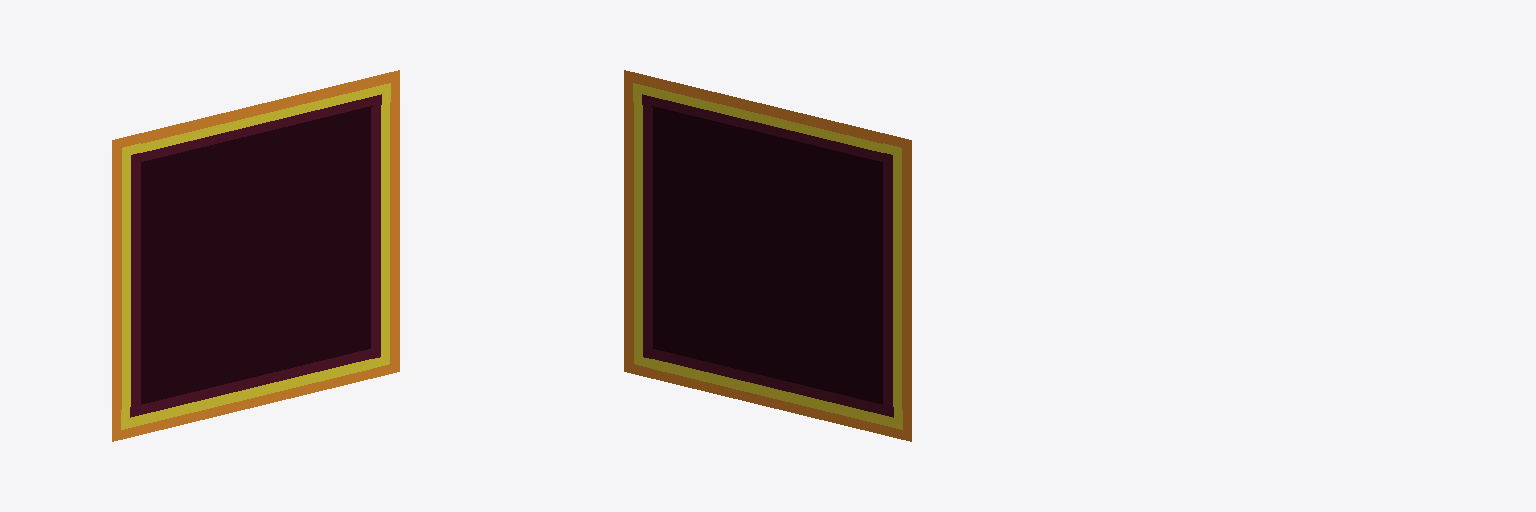
3 renders of one model, left to right at view 1: azimuth 30°, elevation 25°; view 2: azimuth 150°, elevation 25°; view 3: azimuth 270°, elevation 25°, orthographic.
Parts seen in each view (by area): view 1: DialogBox; view 2: DialogBox; view 3: none.
Boxes of the visible parts, x1,y1,x2,y2 form: DialogBox: [112, 70, 399, 441]; DialogBox: [624, 70, 911, 441].
Bounding box in the file's own units: 2 × 2 × 0.
Materials: 1 (1 with a texture image).